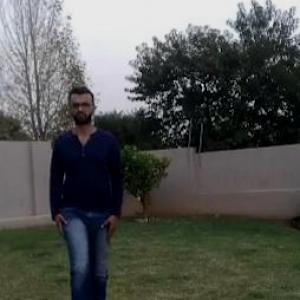follow: (53, 105, 121, 299)
